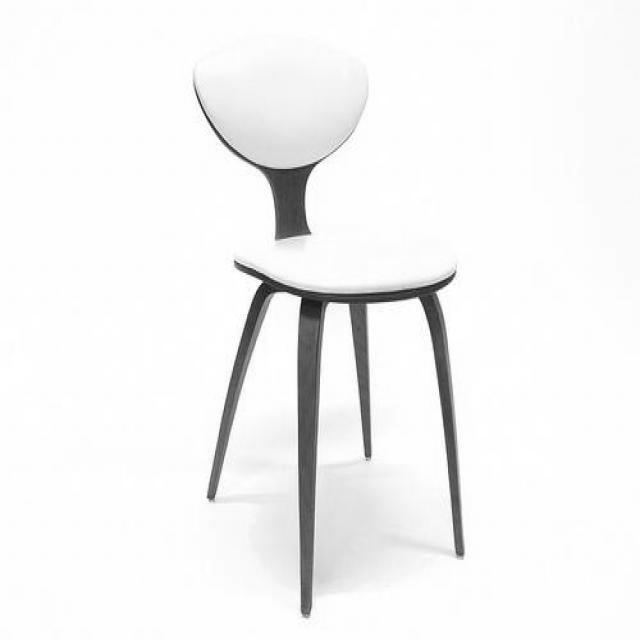chair: (188, 29, 466, 610)
